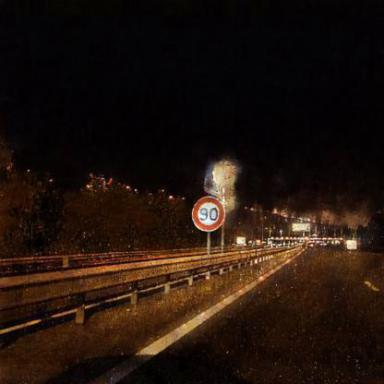Speed_limit_90: (193, 196, 224, 233)
